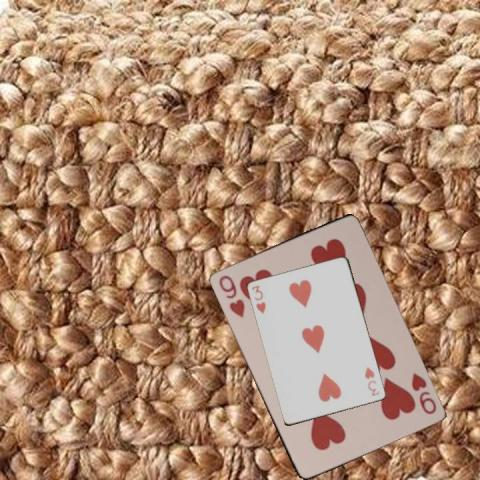3h: (362, 364, 381, 397), (250, 282, 268, 314)
9h: (215, 272, 246, 319), (408, 369, 437, 416)
